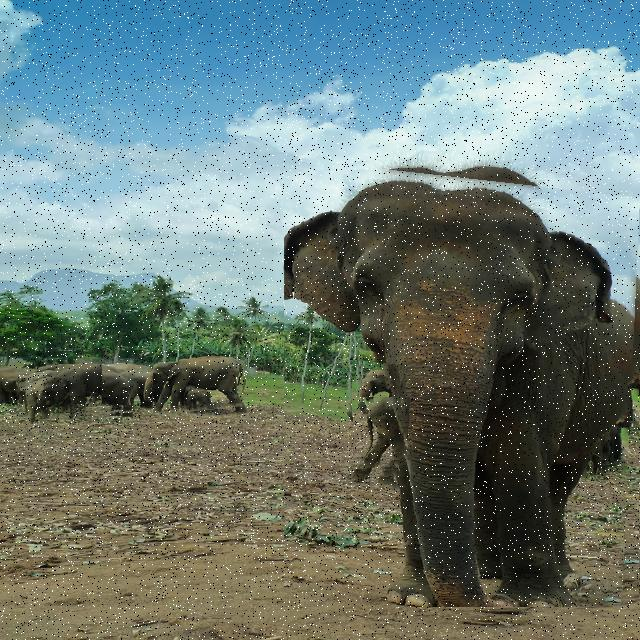elephant: (284, 158, 640, 607), (20, 364, 132, 419), (153, 354, 249, 416), (353, 397, 410, 470), (352, 360, 408, 417), (102, 360, 162, 405)
